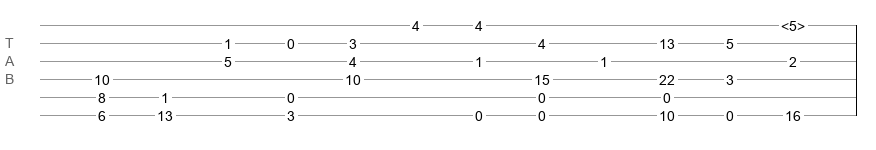0: (287, 36, 295, 46), (287, 90, 295, 100), (475, 108, 483, 118), (538, 108, 546, 118), (538, 90, 546, 100), (663, 90, 671, 100), (726, 108, 734, 118)
1: (161, 90, 169, 100), (224, 36, 232, 46), (475, 54, 483, 64), (600, 54, 608, 64)
10: (94, 72, 110, 82), (345, 72, 361, 82), (659, 108, 675, 118)
13: (157, 108, 173, 118), (659, 36, 675, 46)
15: (534, 72, 550, 82)
16: (785, 108, 801, 118)
2: (789, 54, 797, 64)
22: (659, 72, 675, 82)
3: (287, 108, 295, 118), (349, 36, 357, 46), (726, 72, 734, 82)
4: (349, 54, 357, 64), (412, 18, 420, 28), (475, 18, 483, 28), (538, 36, 546, 46)
5: (224, 54, 232, 64), (726, 36, 734, 46)
6: (98, 108, 106, 118)
8: (98, 90, 106, 100)
harmonic: (781, 18, 805, 28)
